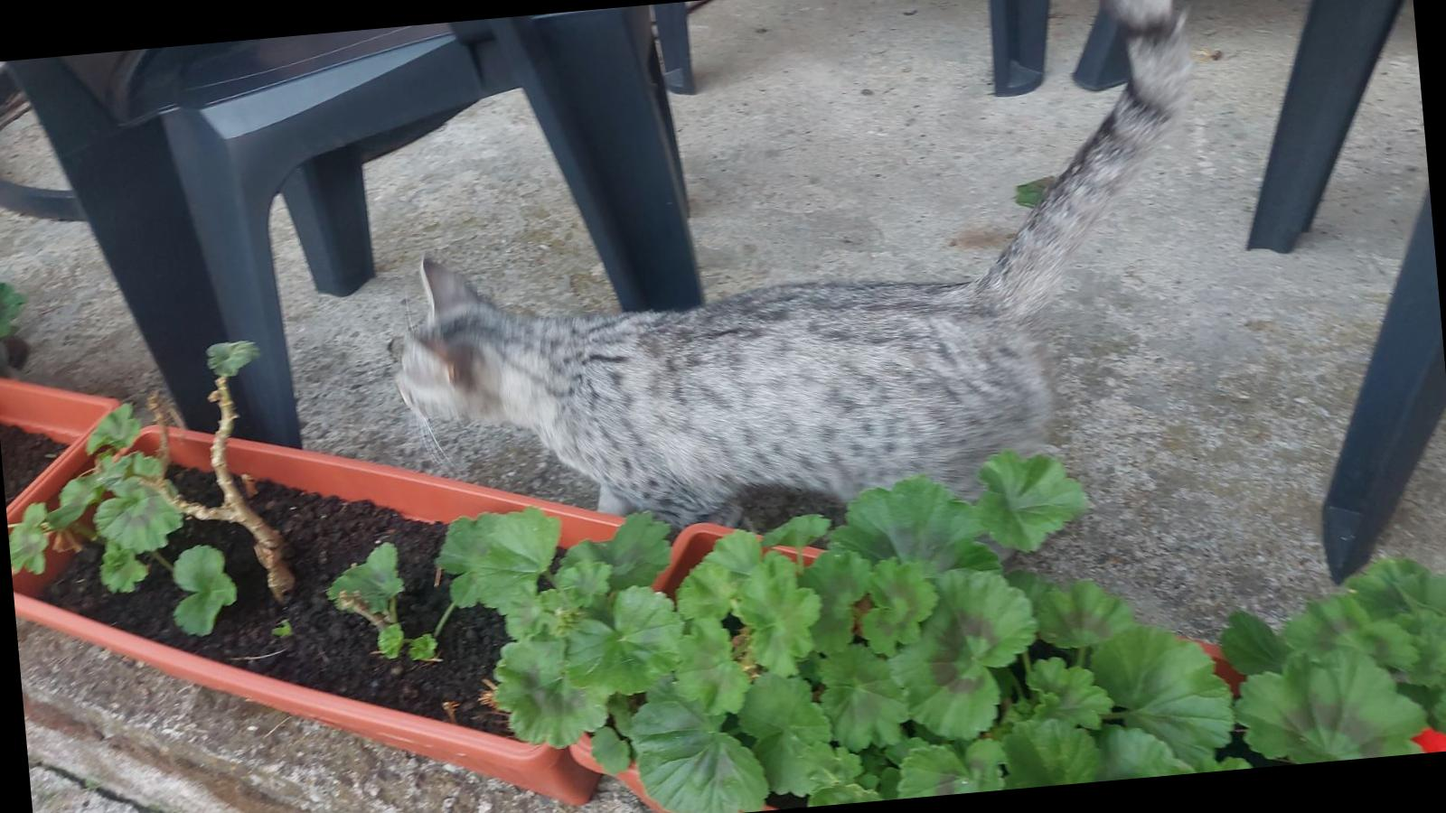macka: (354, 0, 1241, 624)
